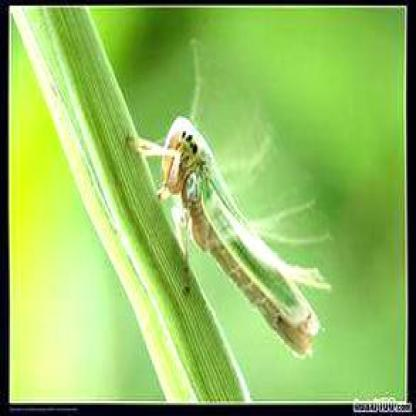green-leafhopper: (155, 107, 318, 360)
